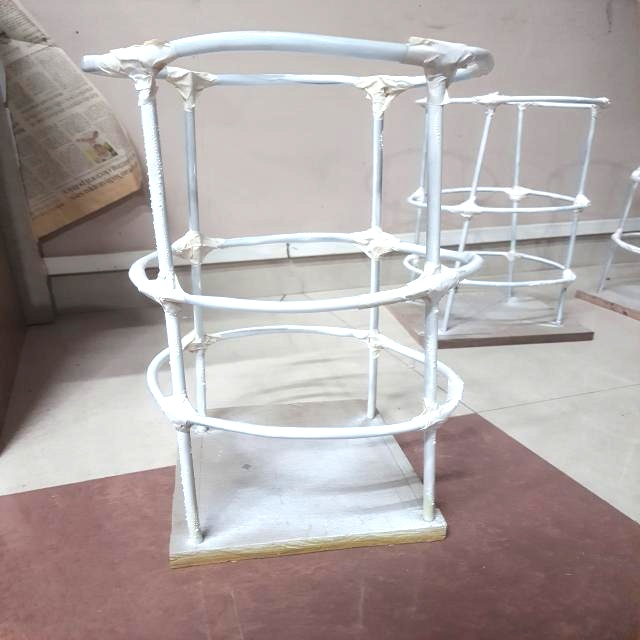silo: (100, 31, 450, 536), (410, 86, 608, 345)
